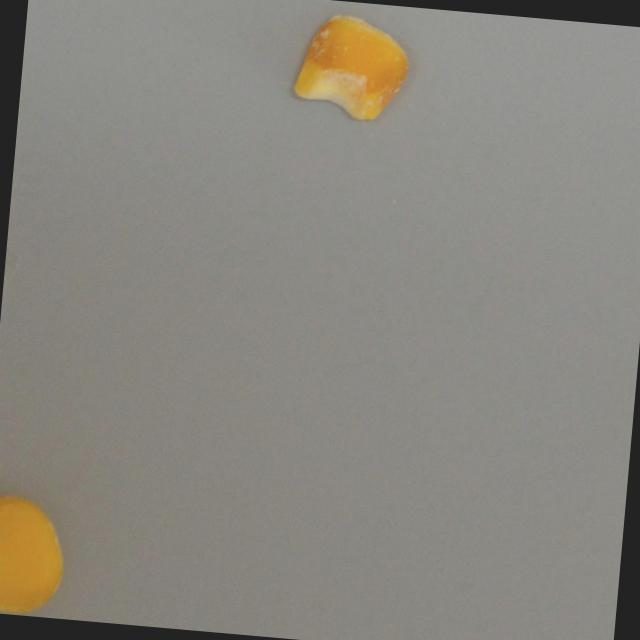dañado: (285, 5, 417, 128)
pelicula: (0, 488, 73, 619)
